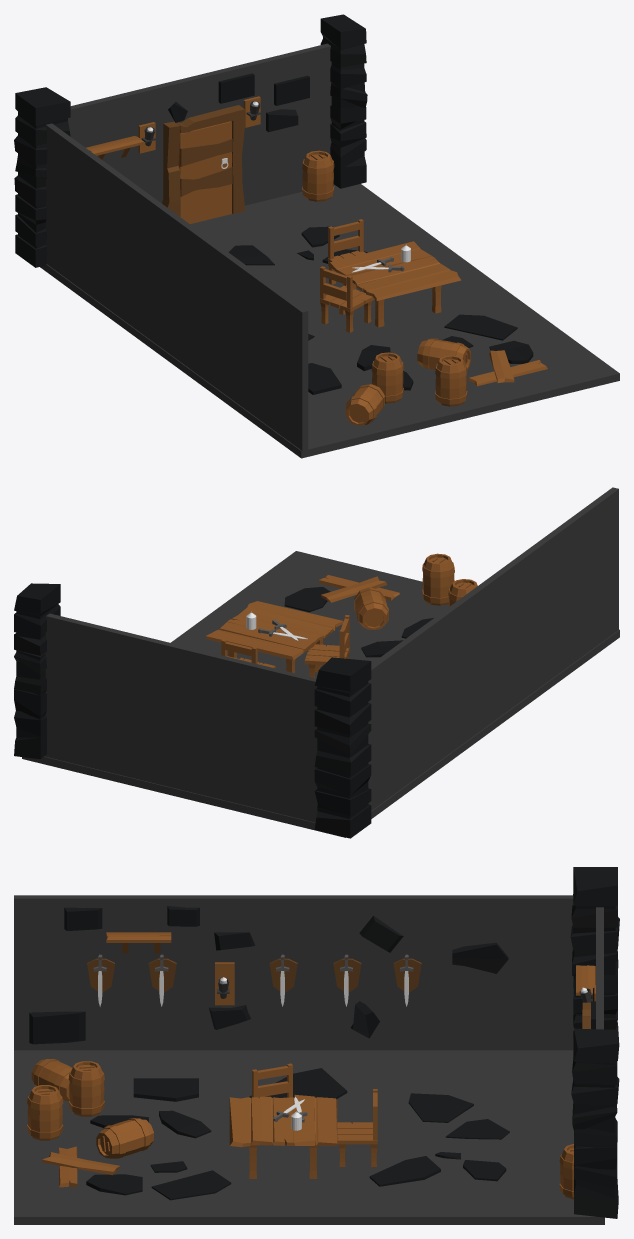
The picture shows the model from 3 angles, top to bottom: view 1: azimuth 30°, elevation 25°; view 2: azimuth 150°, elevation 25°; view 3: azimuth 270°, elevation 25°; orthographic projection. The views are drawn at different scales.
Parts seen in each view (by area): view 1: stone_wall_floor, Door, Table, Door Frame, Chair_2, Barrel, Barrel.002, Barrel.003, Barrel.004, Chair, Barrel.001, Piece_of_wood_2 (+1 smaller); view 2: stone_wall_floor, Table, Barrel.002, Barrel.001, Chair_2, Piece_of_wood, Chair, Piece_of_wood_2; view 3: stone_wall_floor, Table, Barrel.002, Barrel.003, Barrel.001, Chair, Barrel.004, Chair_2, candle_of_wall, Old_shelf, Piece_of_wood, Barrel (+7 smaller).
Boxes of the visible parts, x1,y1,x2,y2 form: stone_wall_floor: [14, 14, 619, 458]; Door: [178, 121, 232, 223]; Table: [328, 241, 461, 327]; Door Frame: [162, 105, 245, 216]; Chair_2: [320, 266, 374, 332]; Barrel: [302, 150, 334, 201]; Barrel.002: [435, 355, 467, 406]; Barrel.003: [371, 352, 403, 403]; Barrel.004: [345, 384, 384, 425]; Chair: [328, 219, 365, 286]; Barrel.001: [417, 338, 470, 369]; Piece_of_wood_2: [469, 360, 547, 386]; stone_wall_floor: [14, 487, 619, 838]; Table: [206, 601, 343, 672]; Barrel.002: [422, 553, 454, 605]; Barrel.001: [354, 587, 388, 629]; Chair_2: [304, 615, 349, 677]; Piece_of_wood: [321, 576, 386, 602]; Chair: [221, 639, 275, 668]; Piece_of_wood_2: [319, 575, 399, 600]; stone_wall_floor: [14, 867, 619, 1224]; Table: [229, 1095, 337, 1178]; Barrel.002: [27, 1085, 63, 1140]; Barrel.003: [68, 1061, 104, 1116]; Barrel.001: [96, 1118, 153, 1158]; Chair: [337, 1089, 377, 1166]; Barrel.004: [31, 1059, 72, 1101]; Chair_2: [252, 1063, 292, 1145]; candle_of_wall: [215, 962, 234, 1005]; Old_shelf: [106, 932, 171, 953]; Piece_of_wood: [42, 1152, 119, 1175]; Barrel: [559, 1144, 573, 1199].
Size of the model in its own units: 1641 by 789 by 2360.
